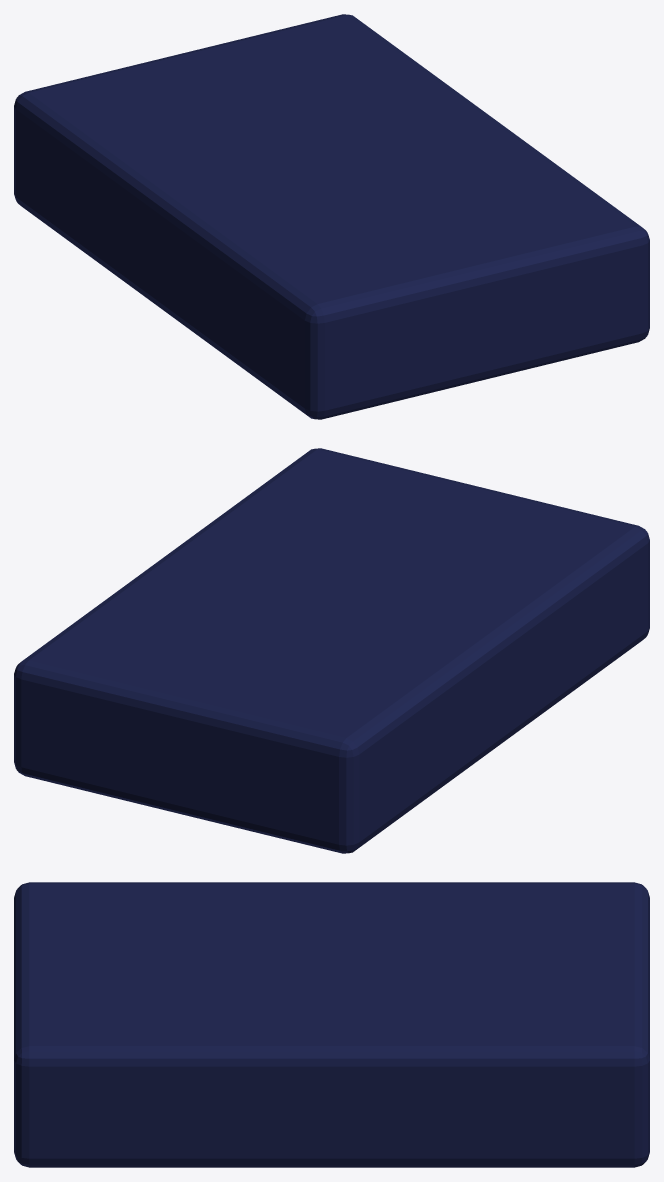
File: tile.glb
The picture shows the model from 3 angles, top to bottom: view 1: azimuth 30°, elevation 25°; view 2: azimuth 150°, elevation 25°; view 3: azimuth 270°, elevation 25°; orthographic projection. The views are drawn at different scales.
Parts seen in each view (by area): view 1: tile; view 2: tile; view 3: tile.
Part boxes in pixels (<box>): tile: <box>14,14,649,419</box>; tile: <box>14,448,649,853</box>; tile: <box>14,882,649,1167</box>.
Size of the model in its own units: 0.94 by 0.3 by 1.44.
